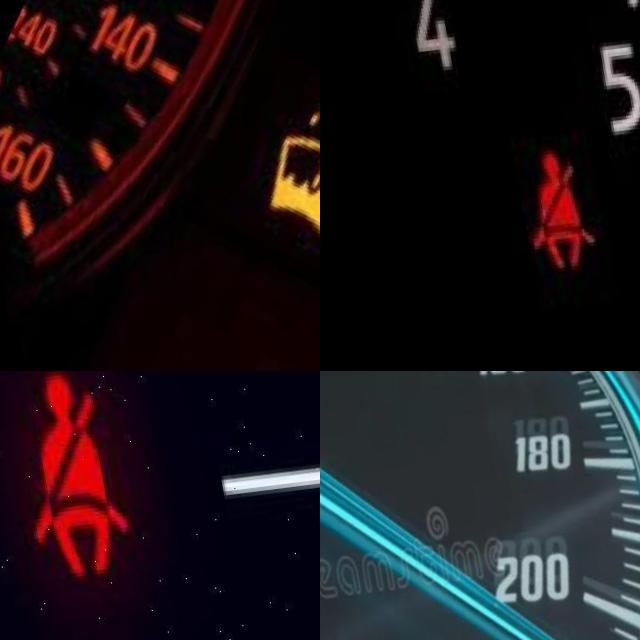Seat Belt: (1, 381, 120, 588), (506, 155, 584, 281)
Washer Fluid: (242, 108, 320, 248)
